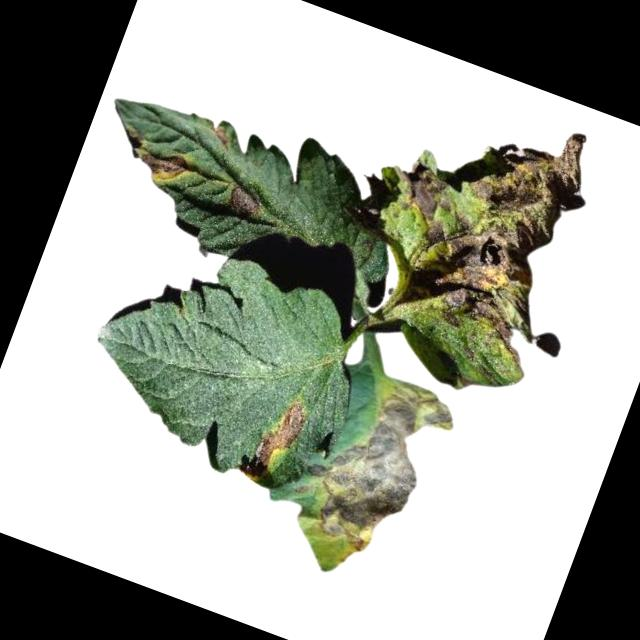Early_blight: (362, 78, 606, 354), (283, 358, 462, 568), (236, 390, 313, 491), (129, 141, 190, 191), (224, 182, 268, 223), (204, 118, 237, 148)
